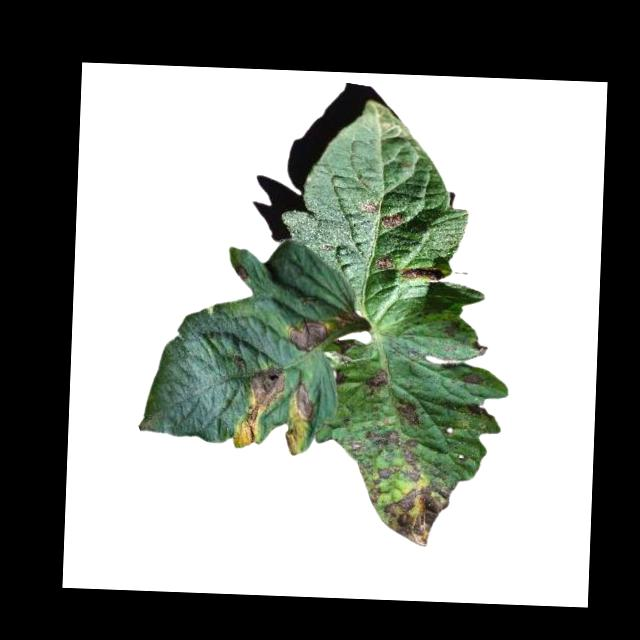Early_blight: (382, 482, 453, 548), (233, 361, 287, 445), (288, 317, 334, 351), (290, 380, 318, 420), (401, 437, 423, 482), (366, 428, 402, 455), (368, 466, 394, 503), (394, 394, 424, 426), (401, 262, 444, 281), (364, 369, 392, 394), (284, 424, 305, 456), (459, 371, 491, 388), (380, 210, 406, 229), (371, 251, 392, 271), (348, 434, 366, 457), (360, 199, 380, 213)
